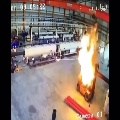fire: (78, 23, 98, 88)
